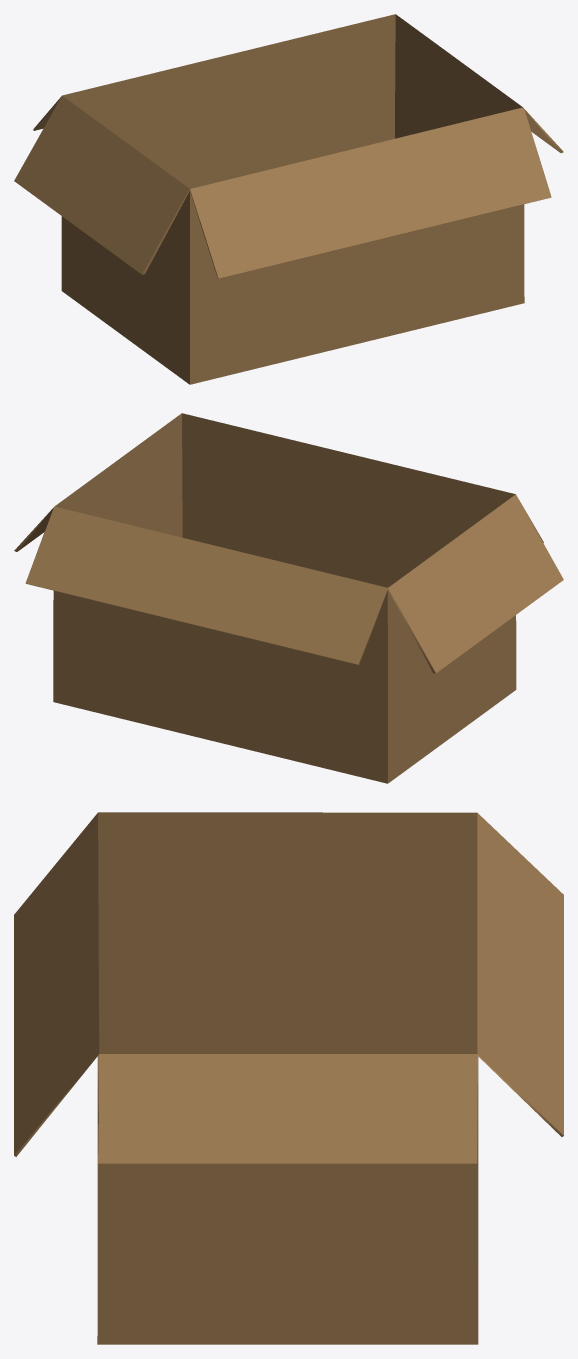
File: rua_box_03.glb
The picture shows the model from 3 angles, top to bottom: view 1: azimuth 30°, elevation 25°; view 2: azimuth 150°, elevation 25°; view 3: azimuth 270°, elevation 25°; orthographic projection. The views are drawn at different scales.
Parts seen in each view (by area): view 1: SM_Box_03; view 2: SM_Box_03; view 3: SM_Box_03.
Part boxes in pixels (x1,y1,x2,y2): SM_Box_03: [14, 14, 563, 384]; SM_Box_03: [14, 413, 563, 783]; SM_Box_03: [14, 812, 563, 1344].
Size of what is drawn, in the model's own units: 0.7565 by 0.3351 by 0.5757.
